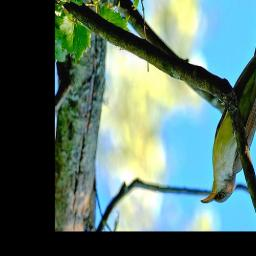Cuckoo: (200, 0, 256, 204)
